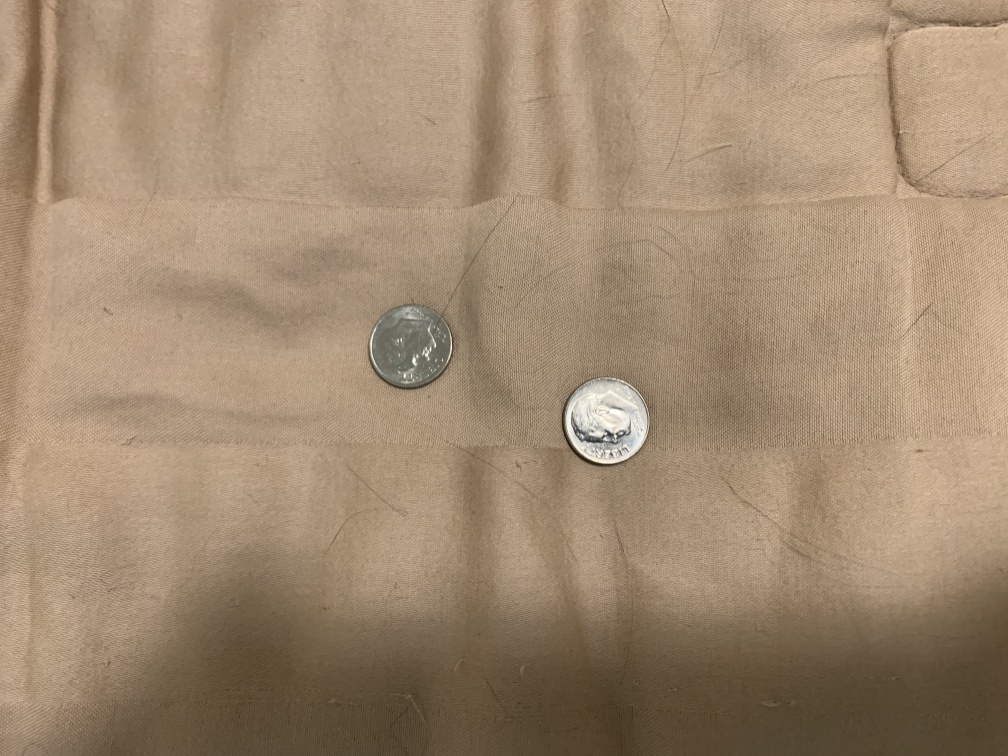dime: (561, 373, 653, 467), (368, 302, 458, 394)
